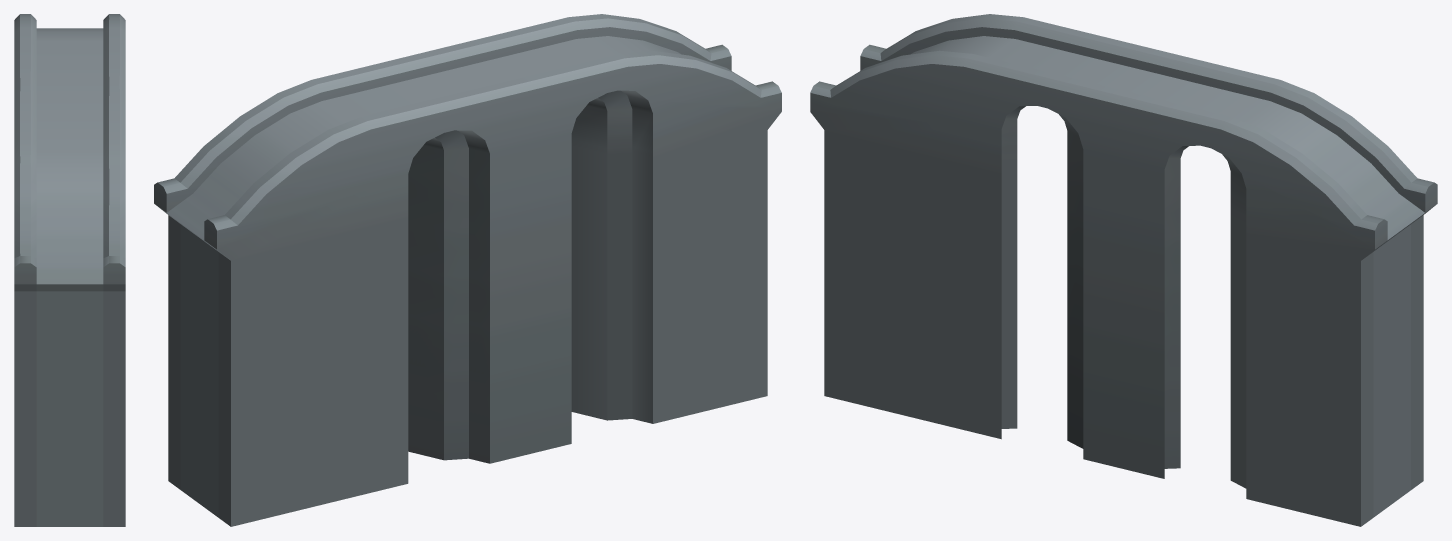
File: building_bridge_b.glb
3 views of the same model, side by side, from view 1: azimuth 30°, elevation 25°; view 2: azimuth 150°, elevation 25°; view 3: azimuth 270°, elevation 25° (orthographic). The views are drawn at different scales.
Visible parts, largest first — view 1: building_bridge_B; view 2: building_bridge_B; view 3: building_bridge_B.
Boxes of the visible parts, box(x1,y1,x2,y2) form: building_bridge_B: box(14, 14, 125, 526); building_bridge_B: box(154, 14, 781, 526); building_bridge_B: box(810, 14, 1437, 526).
Size of the model in its own units: 1.33 by 1.25 by 1.92.
Materials: 1 (1 with a texture image).
